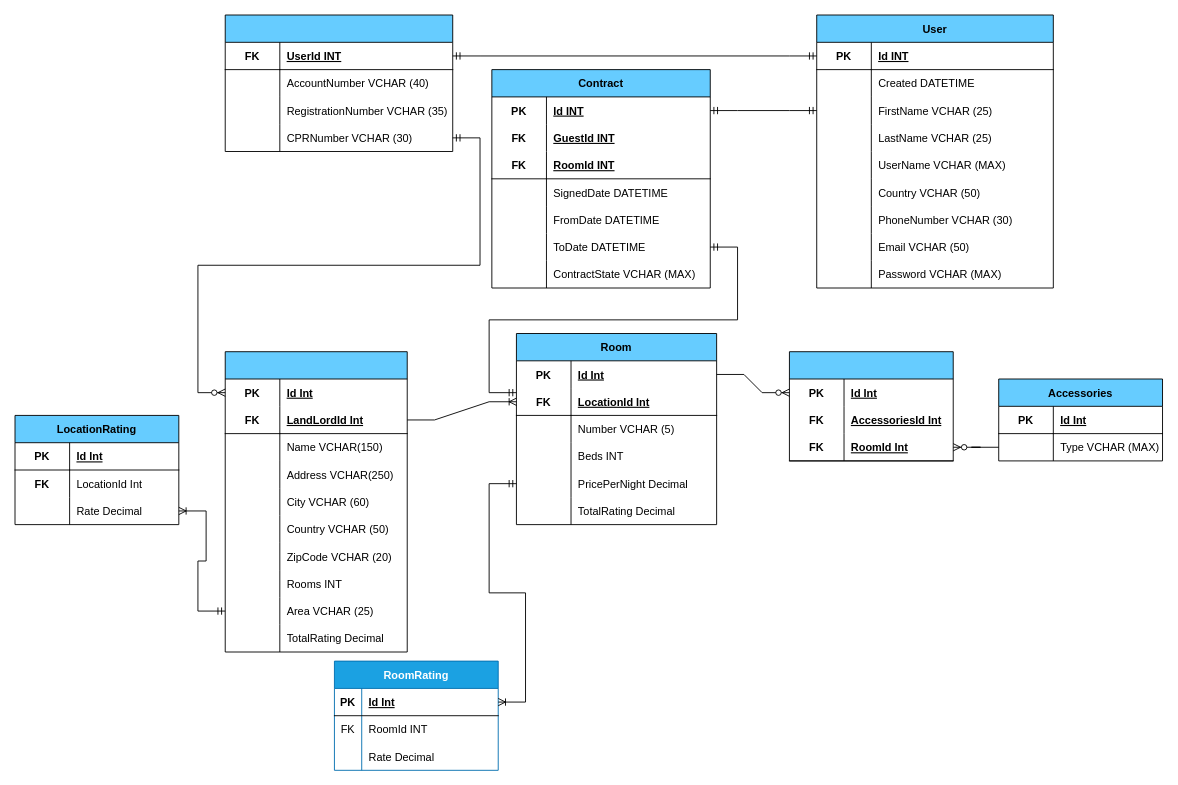
The diagram is 1178 pixels wide and 785 high, and some of its shapes have lost their labels. The shapes that lost their labels are listed below. From the top down, each one's box as (x1, y1, x2, y2) in pixels, then its label:
(224, 14, 453, 152): LandLord
(789, 351, 953, 461): RoomAccessory
(224, 351, 407, 652): Location
